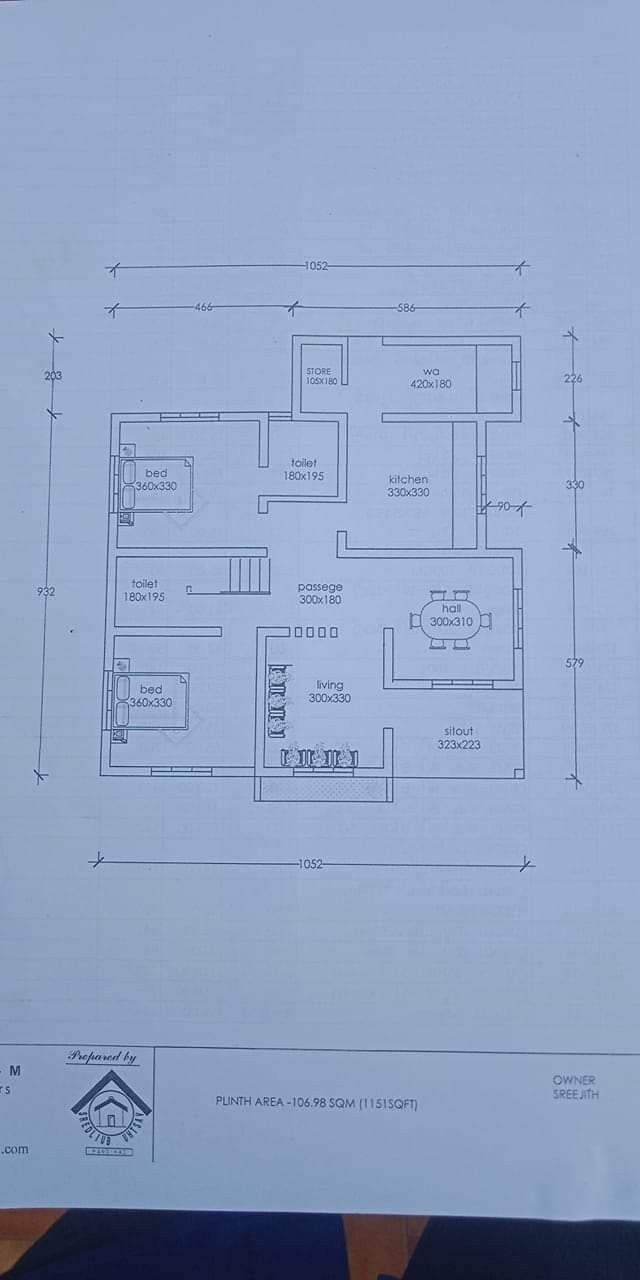room: (248, 549, 530, 804), (285, 315, 516, 551), (95, 553, 257, 792), (95, 392, 279, 574)
wall: (332, 529, 530, 568), (93, 514, 132, 678), (381, 327, 524, 370), (114, 537, 285, 568), (381, 392, 528, 427), (250, 623, 285, 763), (114, 610, 228, 647), (367, 629, 430, 694), (283, 323, 318, 421), (214, 408, 271, 465), (103, 400, 163, 451), (332, 412, 363, 504), (97, 735, 150, 780), (252, 488, 340, 515), (348, 743, 393, 780), (503, 647, 524, 690)
